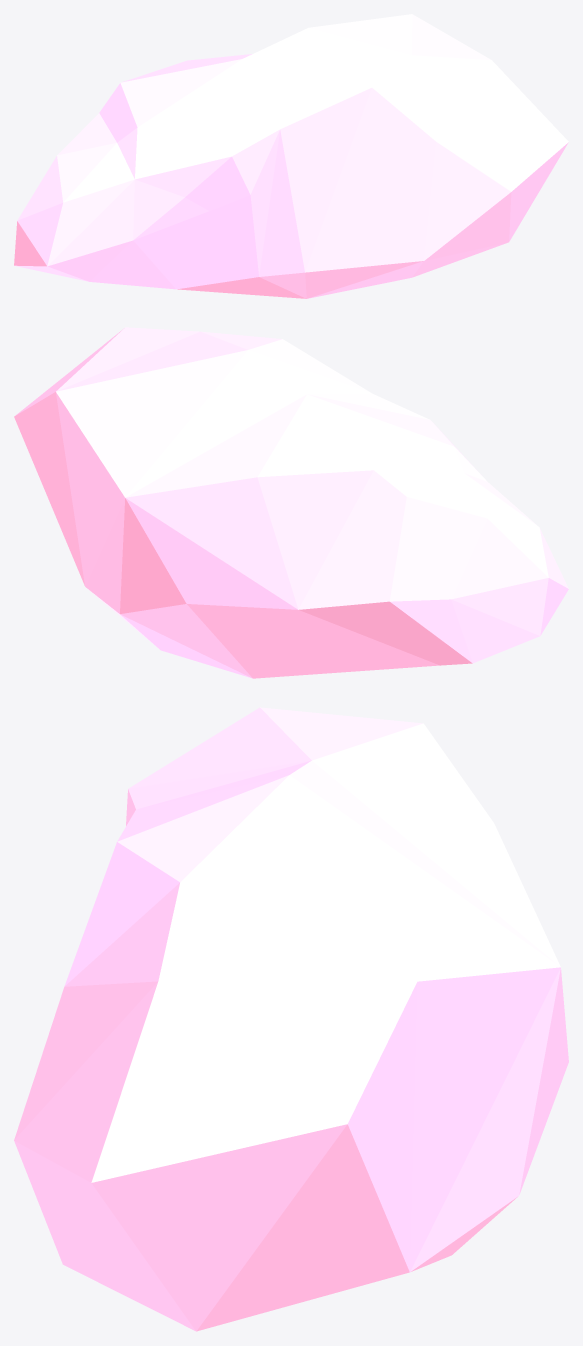
File: Nube.fbx
3 views of the same model, one above another, from view 1: azimuth 30°, elevation 25°; view 2: azimuth 150°, elevation 25°; view 3: azimuth 270°, elevation 25° (orthographic). The views are drawn at different scales.
Visible parts, largest first — view 1: Icosphere.002; view 2: Icosphere.002; view 3: Icosphere.002.
Boxes of the visible parts, x1,y1,x2,y2 form: Icosphere.002: (14, 14, 568, 298); Icosphere.002: (14, 327, 568, 678); Icosphere.002: (14, 707, 568, 1331).
Bounding box in the file's own units: 404 × 198 × 220.
